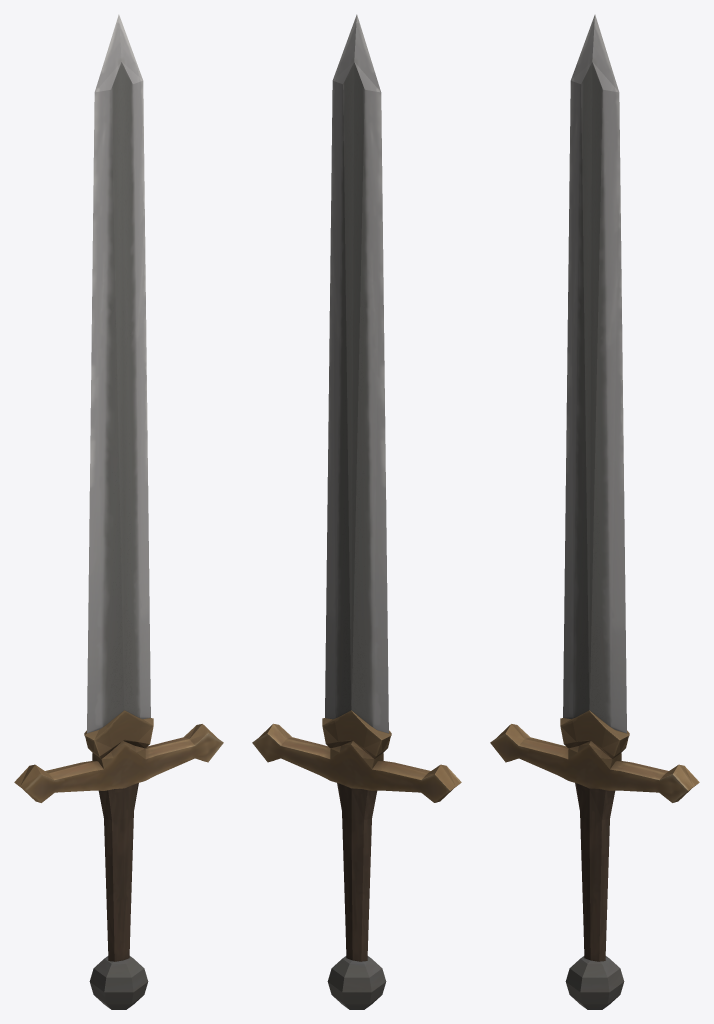
The model's file is Knight_Sword.fbx.
3 renders of one model, left to right at view 1: azimuth 30°, elevation 25°; view 2: azimuth 150°, elevation 25°; view 3: azimuth 330°, elevation 25°, orthographic.
Visible parts, largest first — view 1: Sword_01; view 2: Sword_01; view 3: Sword_01.
Boxes of the visible parts, x1,y1,x2,y2 form: Sword_01: [14, 14, 223, 1009]; Sword_01: [252, 14, 461, 1009]; Sword_01: [490, 14, 699, 1009].
Size of the model in its own units: 0.1965 by 0.9429 by 0.0504.
